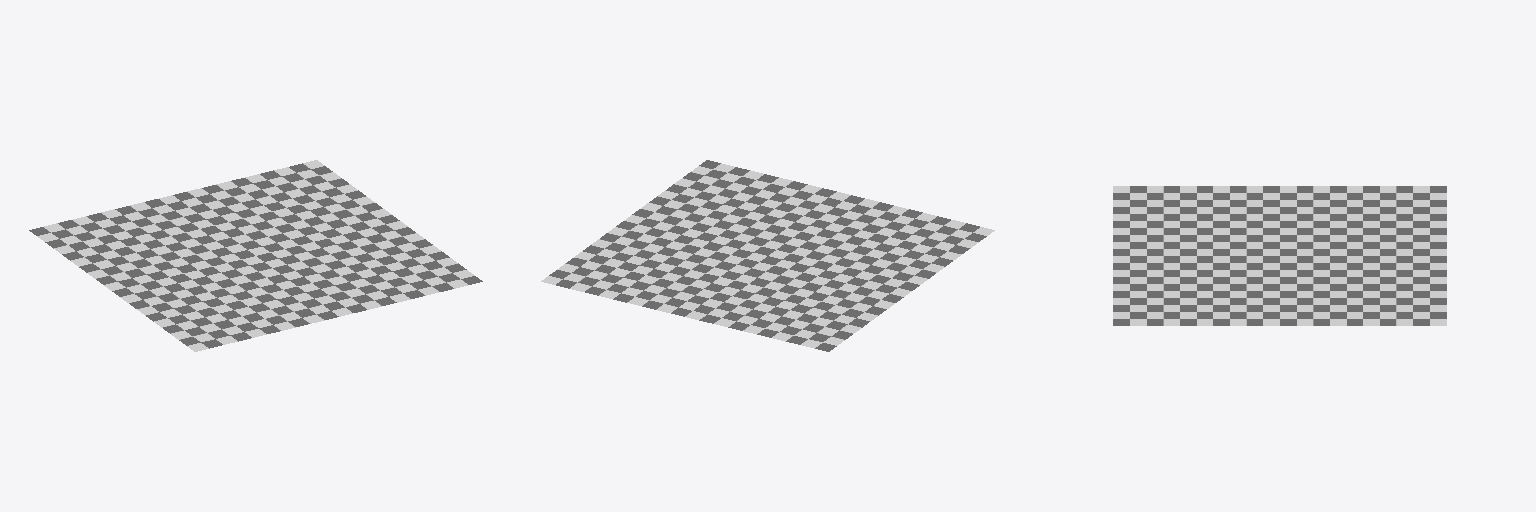
The picture shows the model from 3 angles: view 1: azimuth 30°, elevation 25°; view 2: azimuth 150°, elevation 25°; view 3: azimuth 270°, elevation 25°; orthographic projection.
Visible parts, largest first — view 1: Plane; view 2: Plane; view 3: Plane.
Boxes of the visible parts, box(x1,y1,x2,y2) form: Plane: box(29, 160, 482, 351); Plane: box(541, 160, 994, 351); Plane: box(1113, 186, 1446, 325).
Bounding box in the file's own units: 2 × 0 × 2.
Materials: 1 (1 with a texture image).